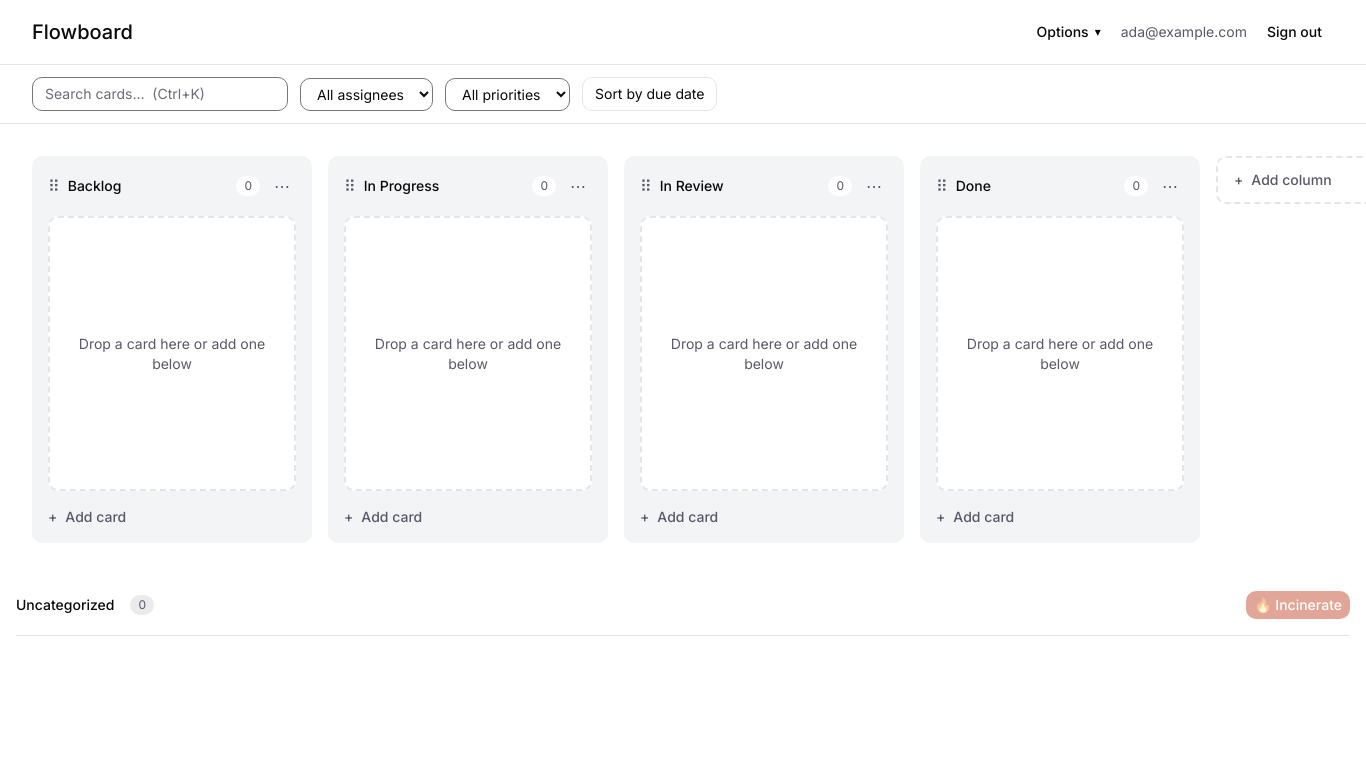
Scenario: Board: creating cards › adds a card to the column whose Add card button was used
Step 1. Click the button "+ Add card" below "In Progress" → click(468, 517), box x1=344 y1=507 x2=592 y2=527
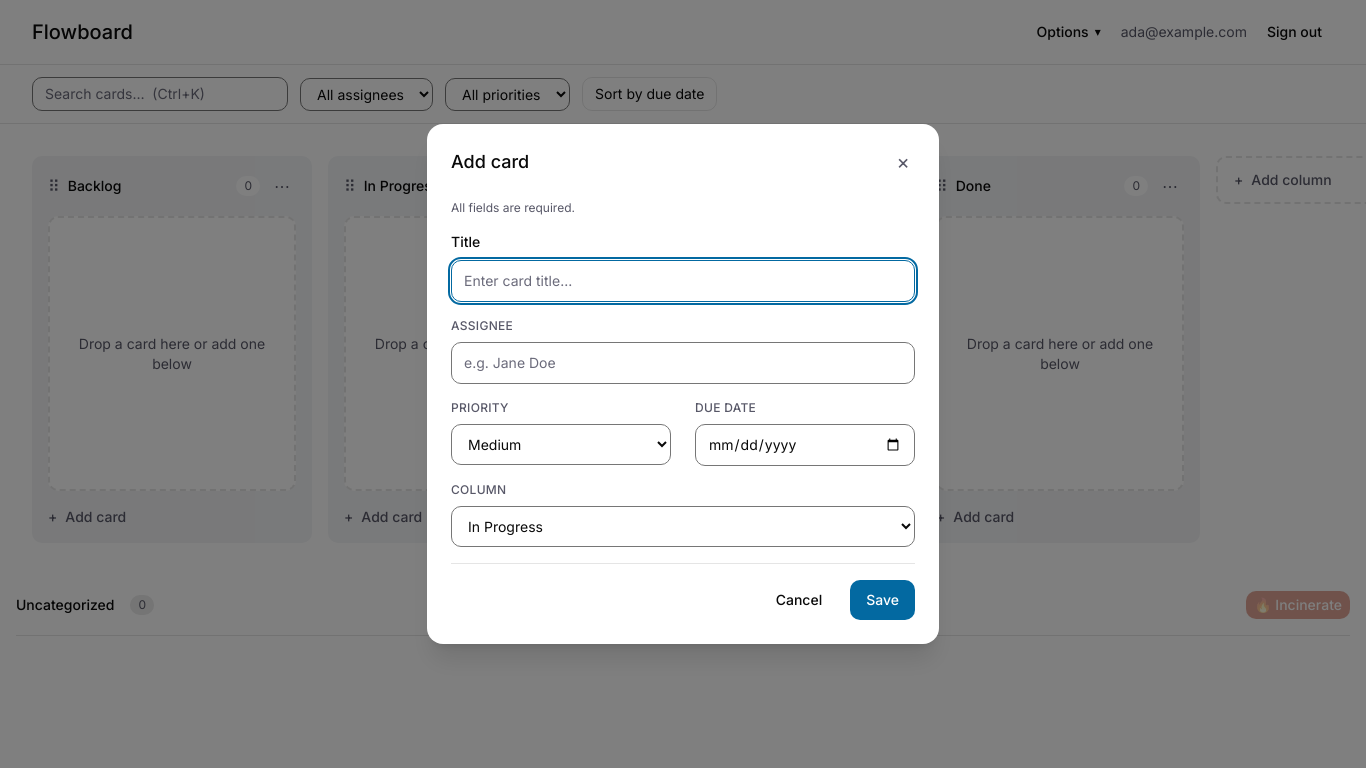
Step 2. Type "Ship it" into the field labelled "Title" → (683, 281), box x1=451 y1=260 x2=915 y2=302
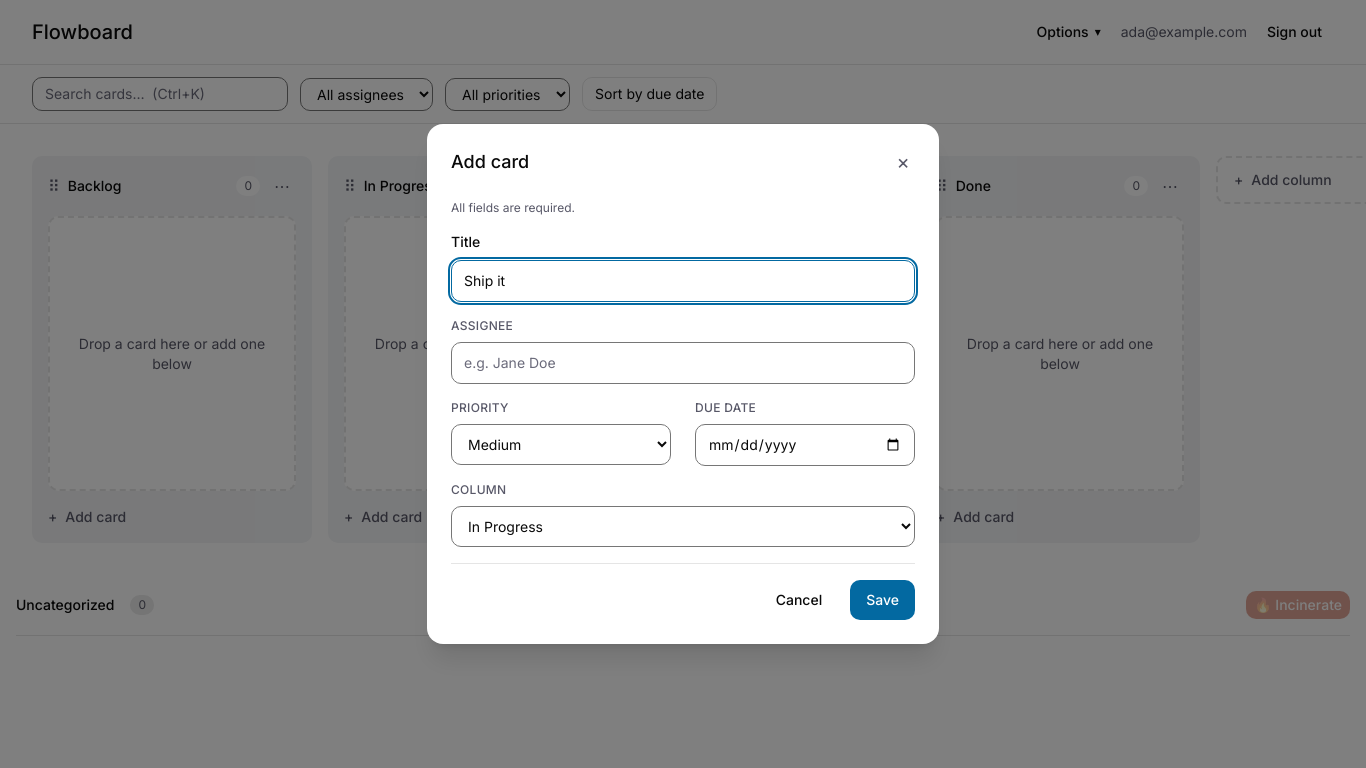
Step 3. Type "Bo" into the field labelled "Assignee" → (683, 363), box x1=451 y1=342 x2=915 y2=384
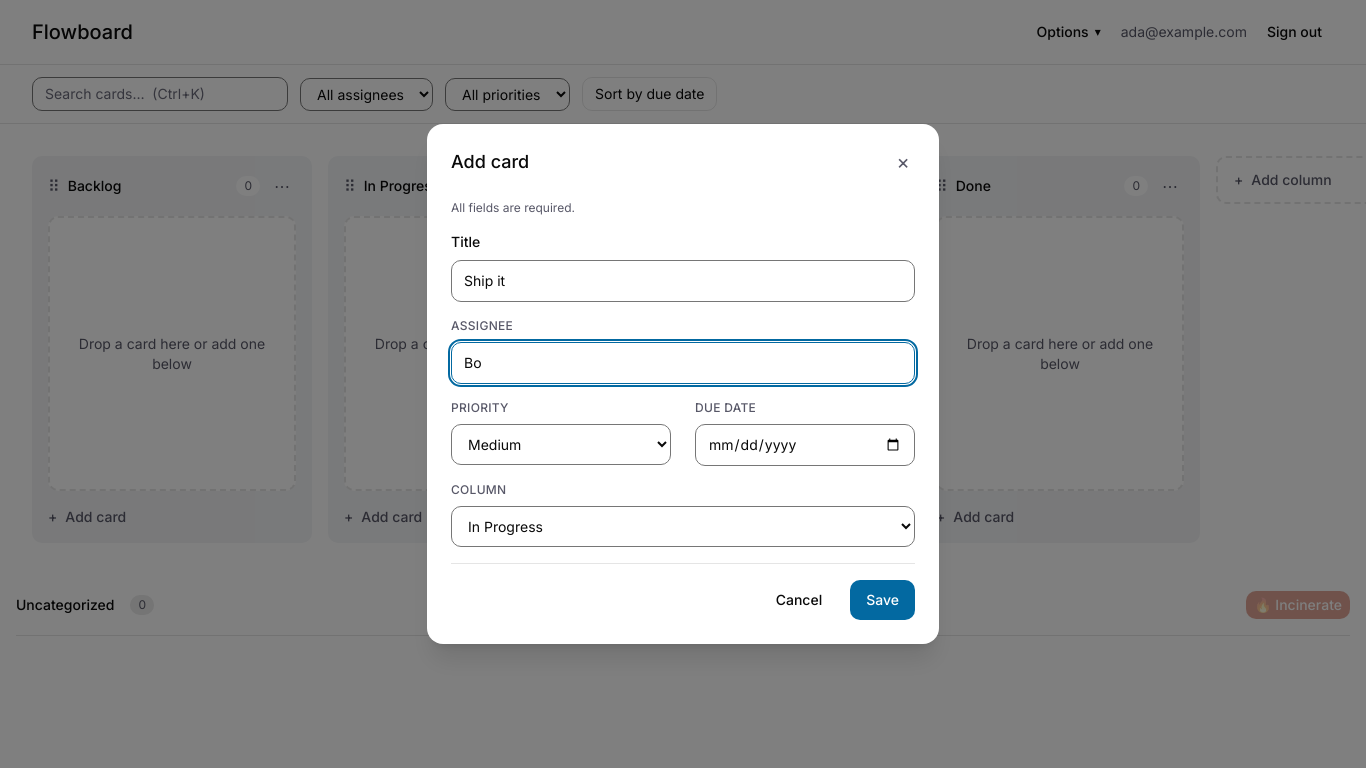
Step 4. Type "2030-03-03" into the date field labelled "Due Date" → (805, 445), box x1=695 y1=424 x2=915 y2=466
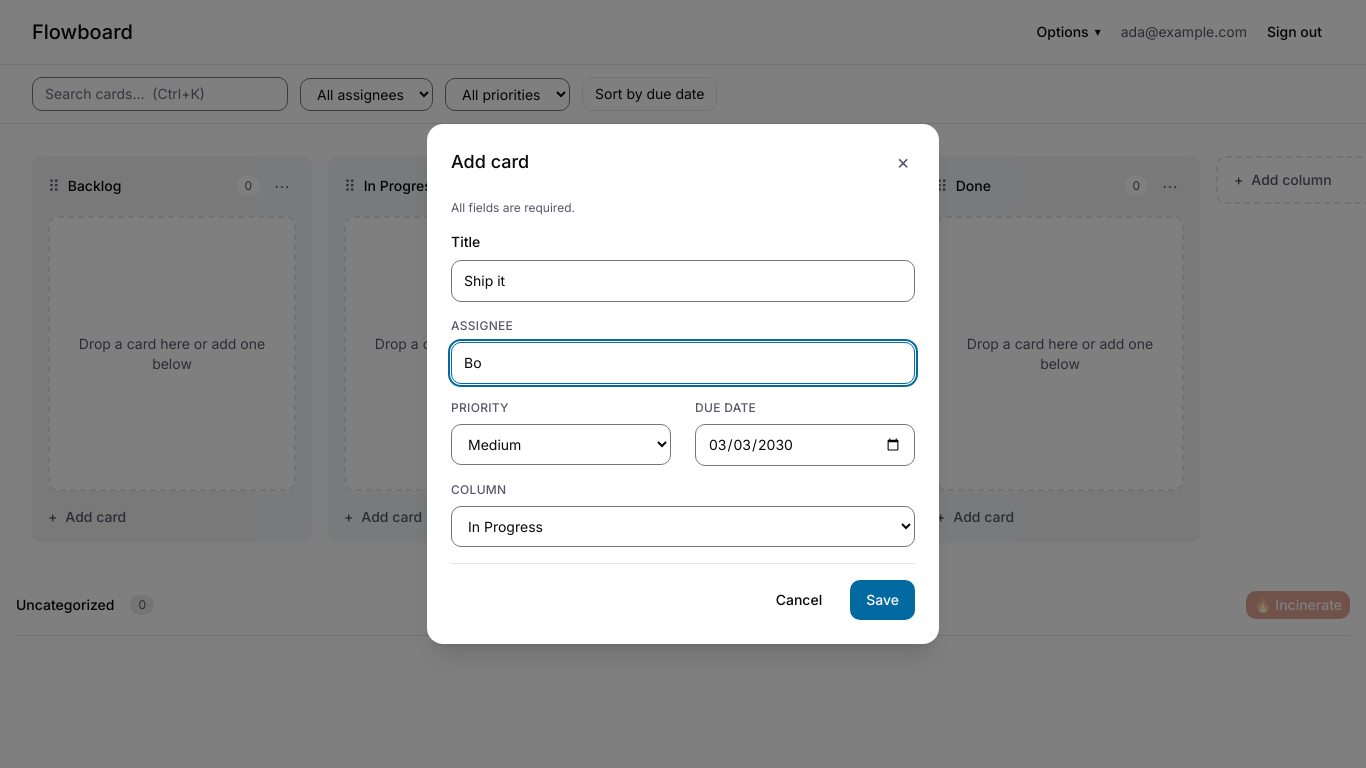
Step 5. Click the button "Save" → click(883, 600), box x1=850 y1=580 x2=915 y2=620
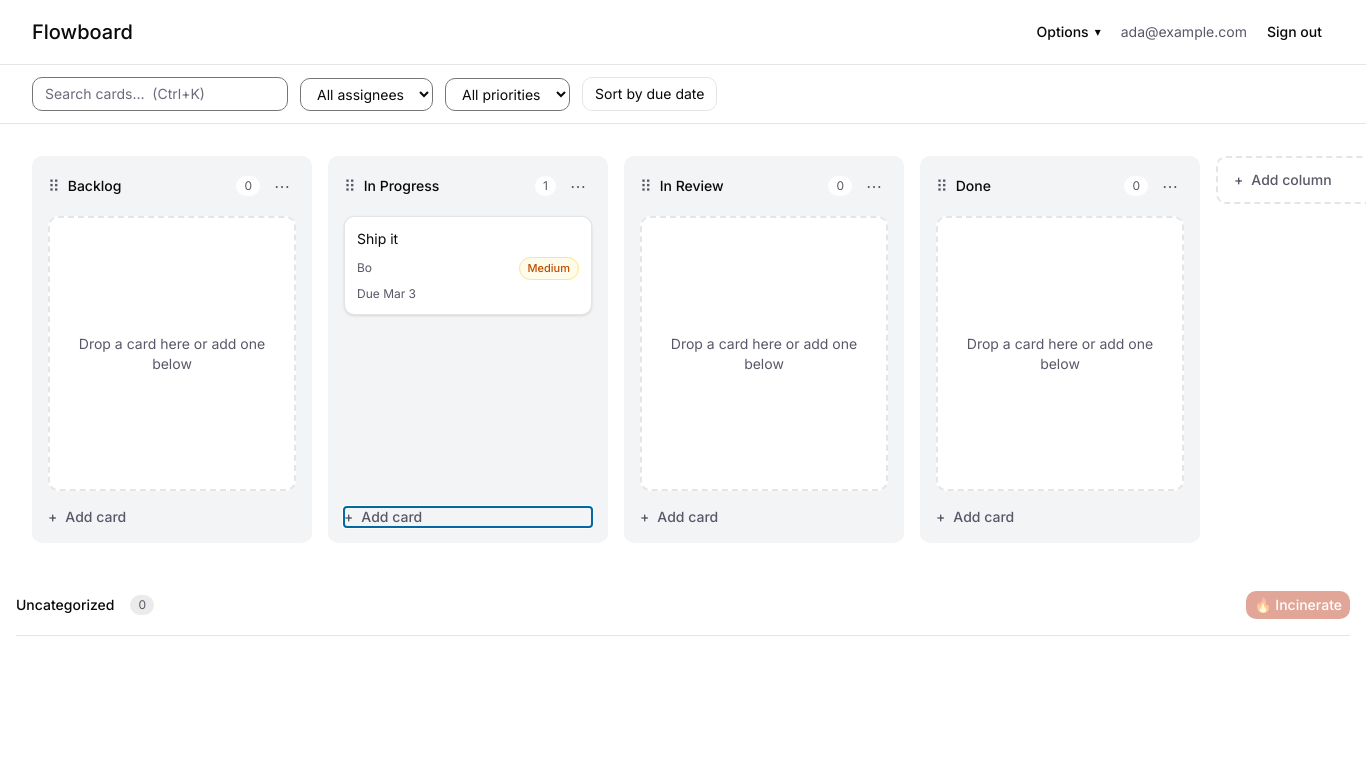
Now the text "Ship it" is shown, box x1=357 y1=230 x2=398 y2=247
